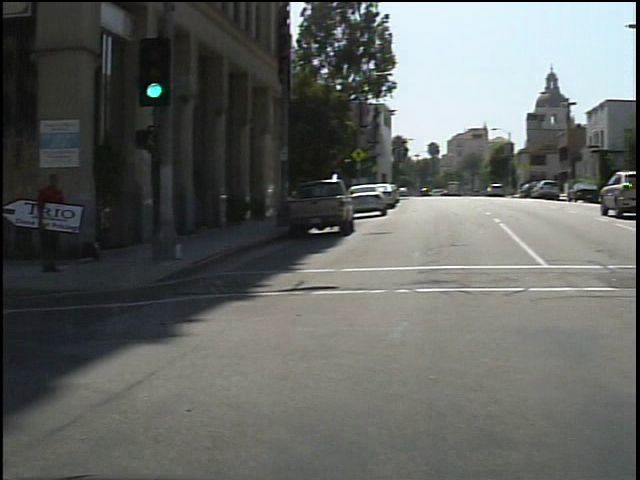person: (27, 161, 78, 281)
